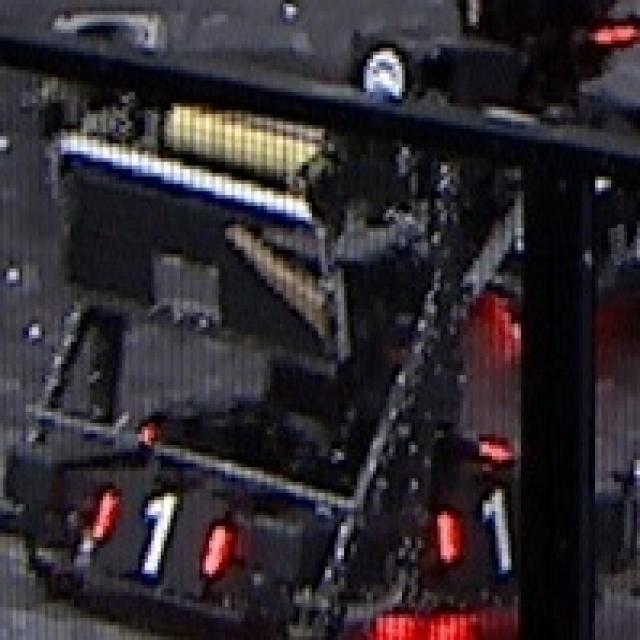R1: (86, 478, 237, 589), (416, 469, 542, 579)
